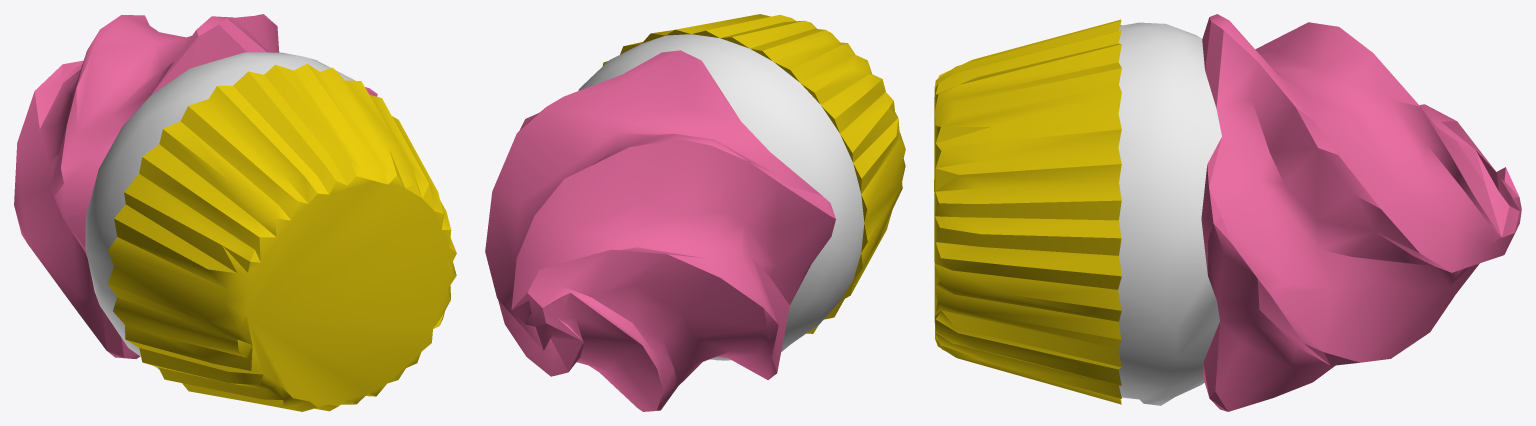
File: muffin.glb
3 views of the same model, side by side, from view 1: azimuth 30°, elevation 25°; view 2: azimuth 150°, elevation 25°; view 3: azimuth 270°, elevation 25° (orthographic). The views are drawn at different scales.
Visible parts, largest first — view 1: muffin; view 2: muffin; view 3: muffin.
Boxes of the visible parts, <box> form: muffin: <box>14,14,456,411</box>; muffin: <box>485,14,905,411</box>; muffin: <box>934,14,1521,411</box>.
Size of the model in its own units: 1.38 by 1.37 by 2.
